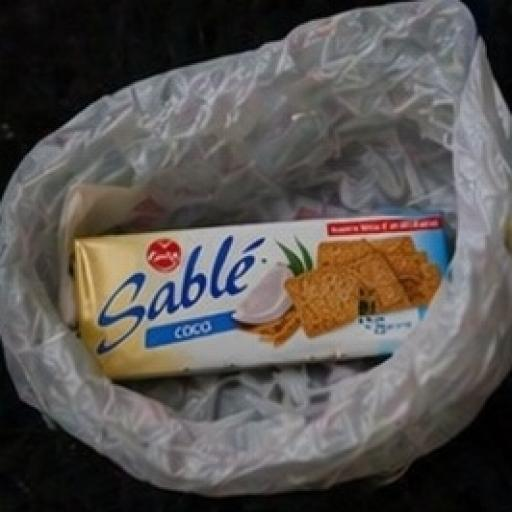sable: (34, 162, 502, 432)
